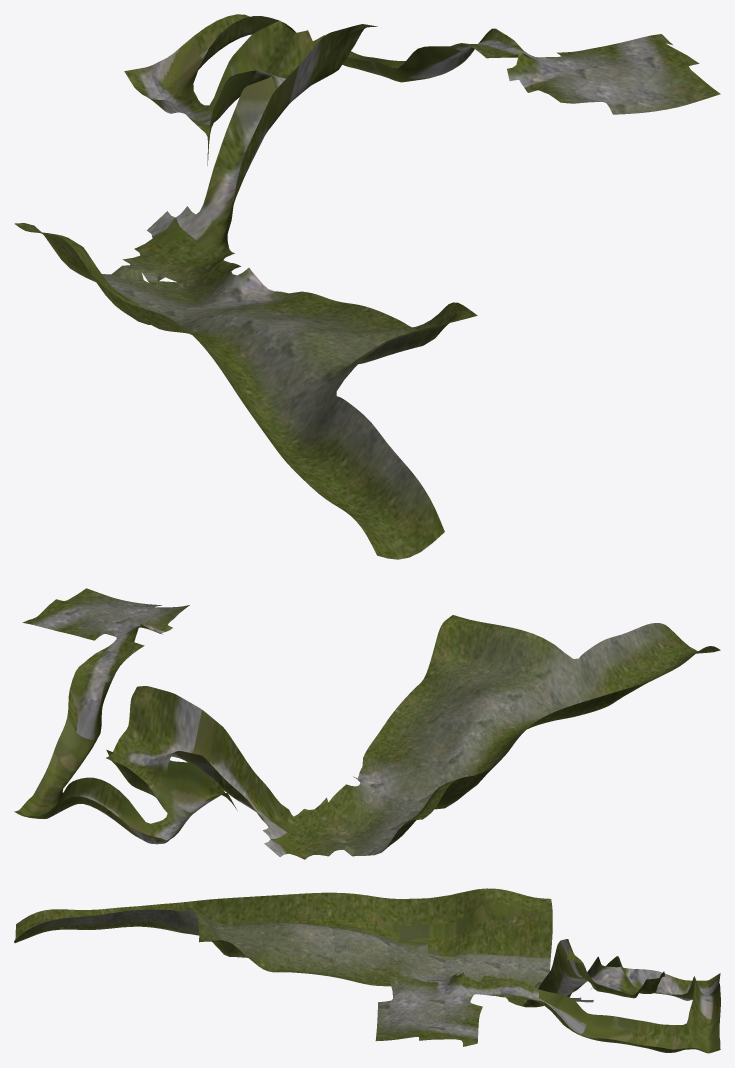
File: lion wye.fbx
The picture shows the model from 3 angles, top to bottom: view 1: azimuth 30°, elevation 25°; view 2: azimuth 150°, elevation 25°; view 3: azimuth 270°, elevation 25°; orthographic projection. The views are drawn at different scales.
Parts seen in each view (by area): view 1: lion_wye; view 2: lion_wye; view 3: lion_wye.
Part boxes in pixels (x1,y1,x2,y2): lion_wye: (14,14,720,559); lion_wye: (14,588,720,859); lion_wye: (14,888,720,1053).
Bounding box in the file's own units: 5813 × 1728 × 8252.
